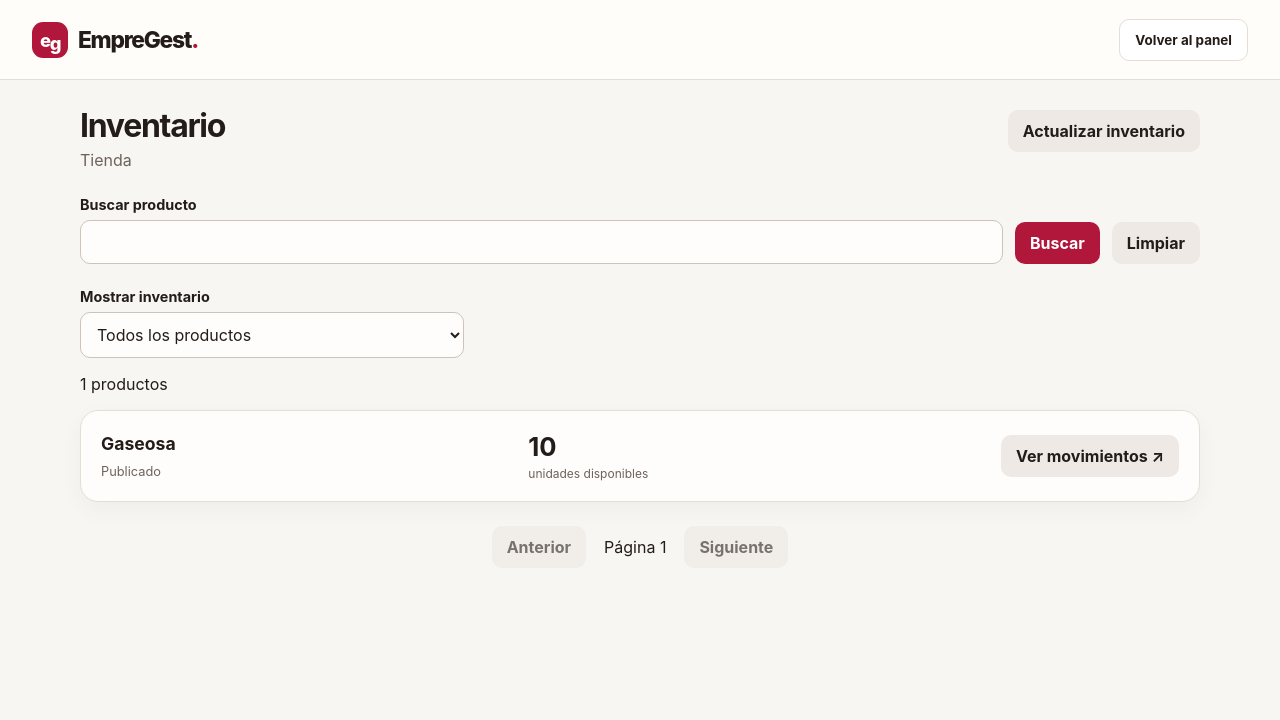
Test: solo consulta no muestra escritura ni permite eliminar movimientos
The width and height of the screenshot is (1280, 720).
Click the button with aria-label "Ver inventario de Gaseosa" at (1090, 456), box [1001,435,1179,477]
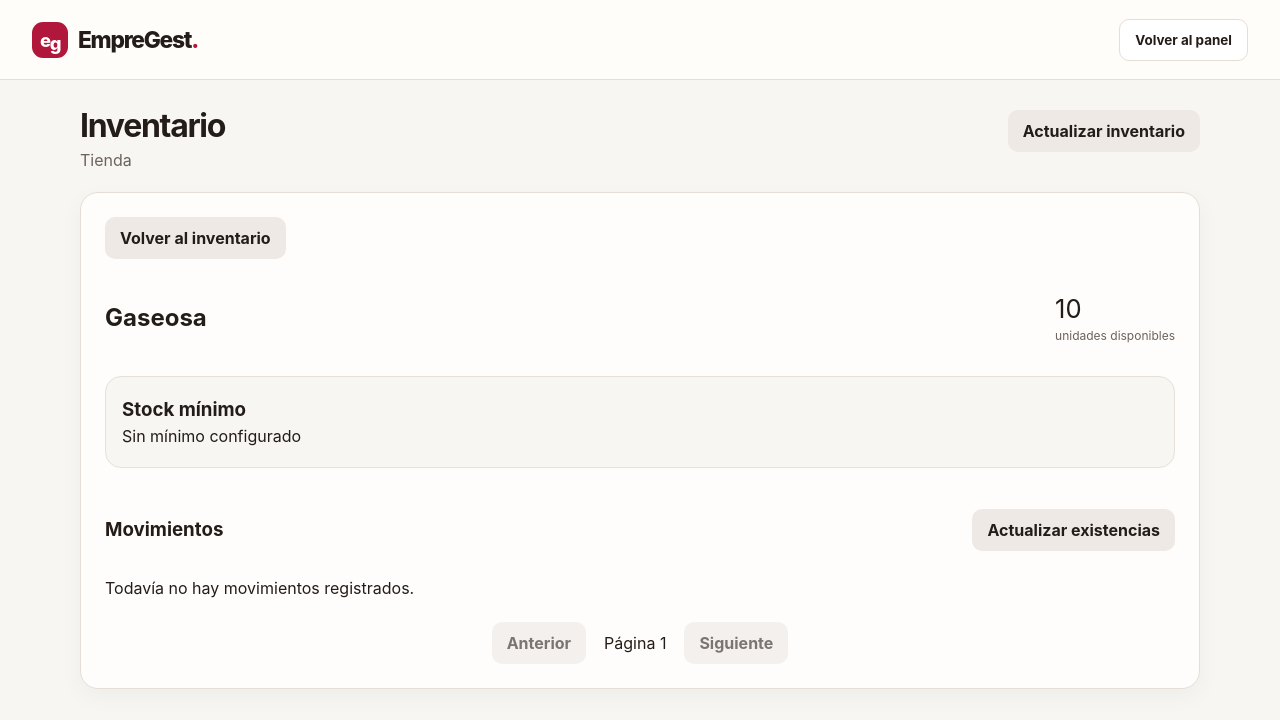
Expected: the text "Todavía no hay movimientos registrados." is shown, [105,578,414,598]
